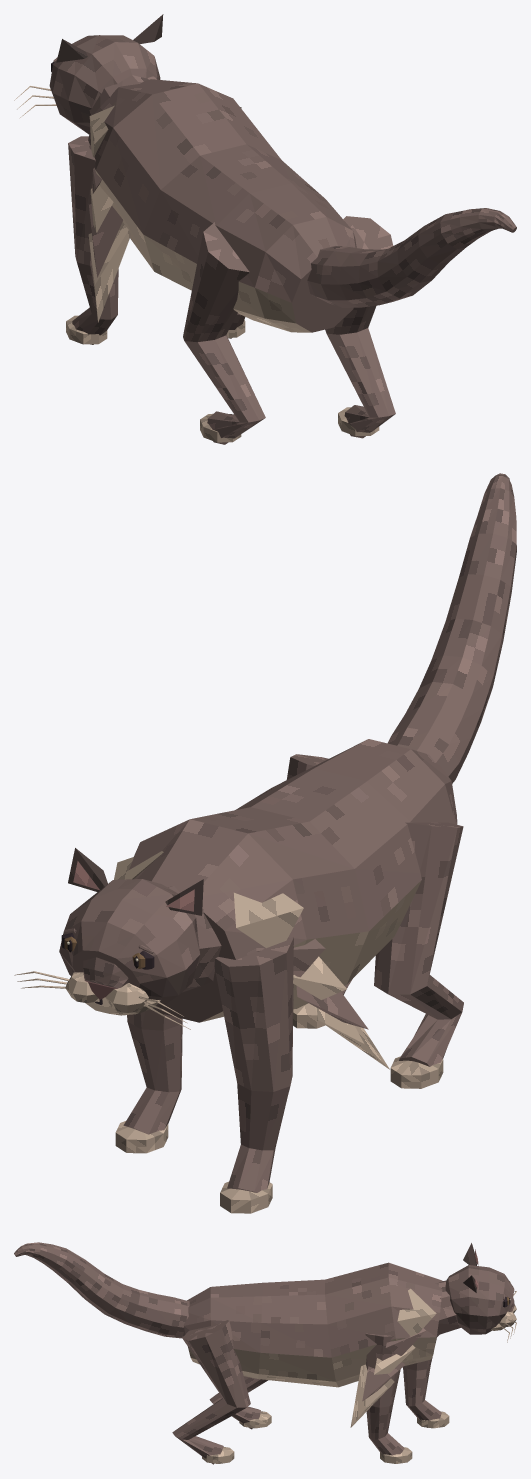
File: mon_cat_longhair.glb
The picture shows the model from 3 angles, top to bottom: view 1: azimuth 30°, elevation 25°; view 2: azimuth 150°, elevation 25°; view 3: azimuth 270°, elevation 25°; orthographic projection. The views are drawn at different scales.
Visible parts, largest first — view 1: closed_body; view 2: closed_body; view 3: closed_body.
Boxes of the visible parts, left/top/right/bottom form: closed_body: left=14, top=14, right=516, bottom=444; closed_body: left=14, top=473, right=516, bottom=1213; closed_body: left=14, top=1242, right=516, bottom=1464.
Size of the model in its own units: 0.2719 by 0.4042 by 0.8422.
Materials: 1 (1 with a texture image).
